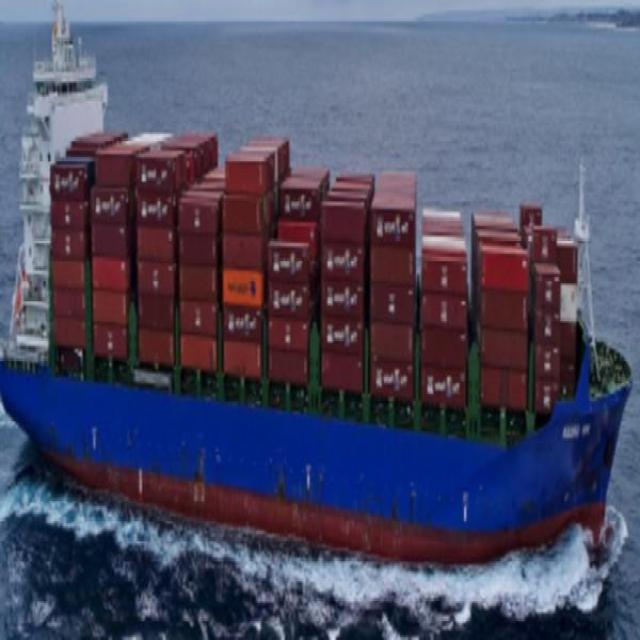Container Ship: (4, 3, 635, 570)
